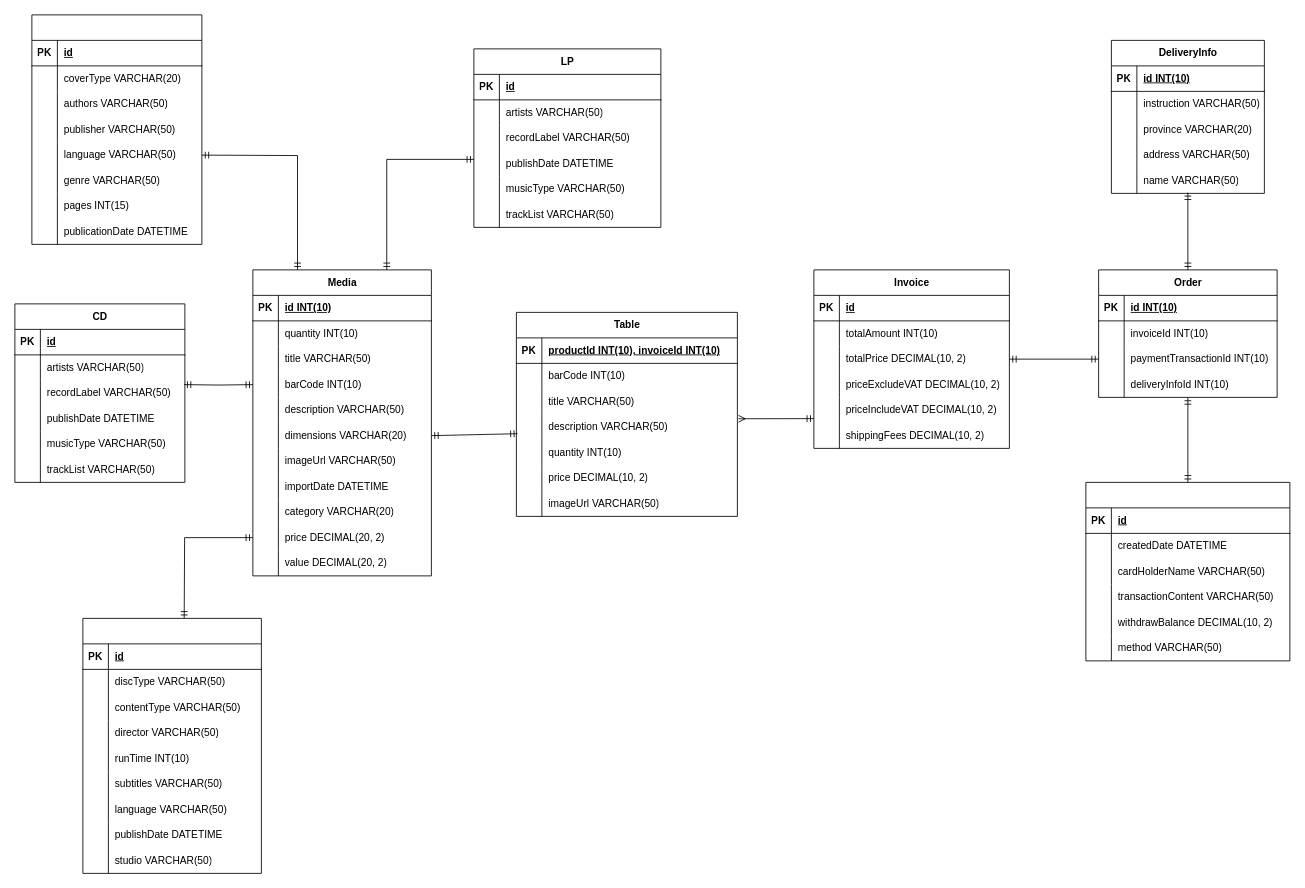
Some shapes in this 1305 by 888 pixel diagram are drawn without their labels. Here are the shapes that lost their labels. From the top down, the box of each, then its label:
(31, 14, 202, 244): Book
(1085, 482, 1290, 661): PaymentTransaction
(82, 618, 261, 873): DVD
